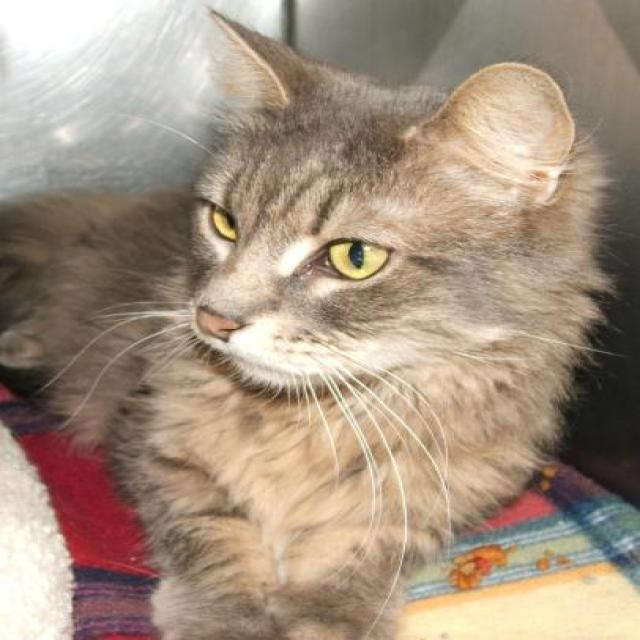Cats: (0, 5, 624, 639)
